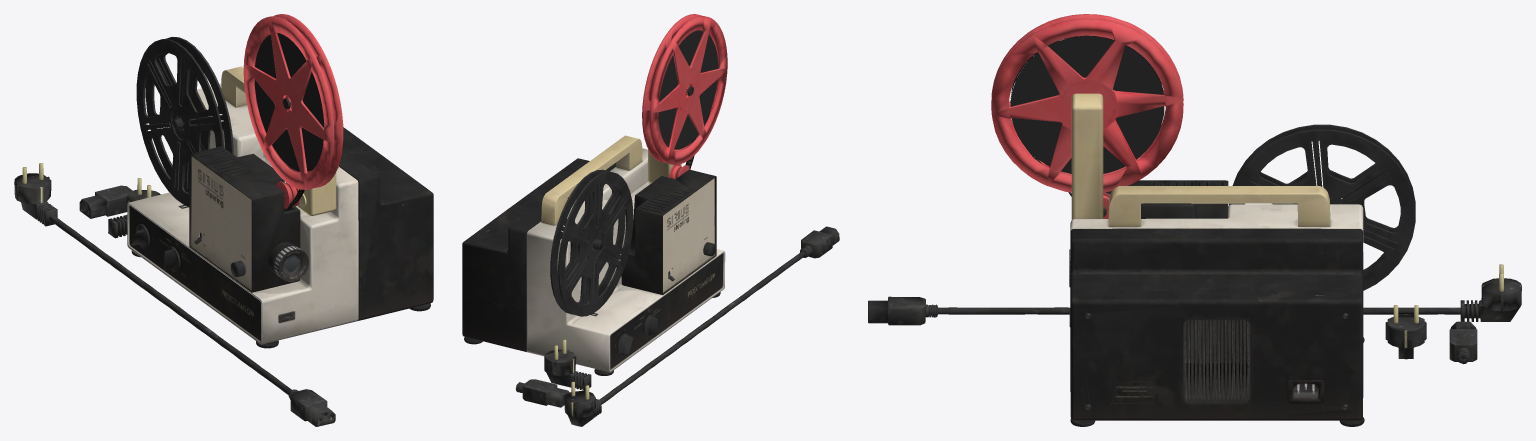
File: projector.glb
The picture shows the model from 3 angles, left to right: view 1: azimuth 30°, elevation 25°; view 2: azimuth 150°, elevation 25°; view 3: azimuth 270°, elevation 25°; orthographic projection. The views are drawn at different scales.
Parts seen in each view (by area): view 1: filmstrip_projector_8mm, filmstrip_projector_8mm_spool_feed, filmstrip_projector_8mm_spool_takeup, filmstrip_projector_8mm_cable, filmstrip_projector_8mm_01_film_side, filmstrip_projector_8mm_connector, filmstrip_projector_8mm_spool_arm, filmstrip_projector_8mm_schuko; view 2: filmstrip_projector_8mm, filmstrip_projector_8mm_spool_takeup, filmstrip_projector_8mm_spool_feed, filmstrip_projector_8mm_cable, filmstrip_projector_8mm_01_film_side, filmstrip_projector_8mm_schuko, filmstrip_projector_8mm_connector, filmstrip_projector_8mm_spool_arm; view 3: filmstrip_projector_8mm, filmstrip_projector_8mm_spool_feed, filmstrip_projector_8mm_spool_takeup, filmstrip_projector_8mm_01_film_side, filmstrip_projector_8mm_cable, filmstrip_projector_8mm_spool_arm, filmstrip_projector_8mm_schuko, filmstrip_projector_8mm_connector.
Boxes of the visible parts, x1,y1,x2,y2 form: filmstrip_projector_8mm: [127, 66, 433, 348]; filmstrip_projector_8mm_spool_feed: [243, 14, 343, 189]; filmstrip_projector_8mm_spool_takeup: [136, 36, 233, 206]; filmstrip_projector_8mm_cable: [14, 163, 335, 426]; filmstrip_projector_8mm_01_film_side: [254, 33, 324, 171]; filmstrip_projector_8mm_connector: [79, 185, 137, 218]; filmstrip_projector_8mm_spool_arm: [297, 95, 336, 215]; filmstrip_projector_8mm_schuko: [108, 178, 160, 238]; filmstrip_projector_8mm: [462, 135, 725, 375]; filmstrip_projector_8mm_spool_takeup: [550, 169, 633, 316]; filmstrip_projector_8mm_spool_feed: [642, 14, 727, 164]; filmstrip_projector_8mm_cable: [564, 226, 839, 426]; filmstrip_projector_8mm_01_film_side: [658, 30, 718, 149]; filmstrip_projector_8mm_schuko: [544, 339, 591, 390]; filmstrip_projector_8mm_connector: [516, 379, 569, 407]; filmstrip_projector_8mm_spool_arm: [648, 149, 681, 182]; filmstrip_projector_8mm: [1069, 180, 1364, 426]; filmstrip_projector_8mm_spool_feed: [991, 14, 1183, 192]; filmstrip_projector_8mm_spool_takeup: [1229, 124, 1415, 290]; filmstrip_projector_8mm_01_film_side: [1010, 36, 1164, 173]; filmstrip_projector_8mm_cable: [868, 264, 1521, 325]; filmstrip_projector_8mm_spool_arm: [1071, 93, 1103, 219]; filmstrip_projector_8mm_schuko: [1385, 305, 1426, 359]; filmstrip_projector_8mm_connector: [1449, 321, 1477, 364].
Size of the model in its own units: 0.2537 by 0.3454 by 0.6026.
2 materials, 2 textured.
